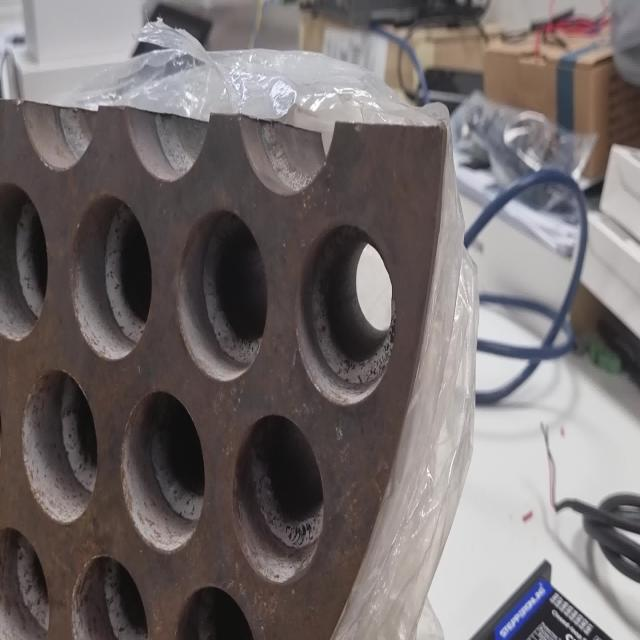Hole: (296, 218, 397, 406), (175, 208, 268, 382), (233, 413, 324, 585), (120, 390, 206, 554), (70, 194, 152, 360), (21, 369, 98, 525), (0, 181, 48, 343), (71, 552, 149, 640), (0, 524, 50, 640), (174, 584, 257, 640)
